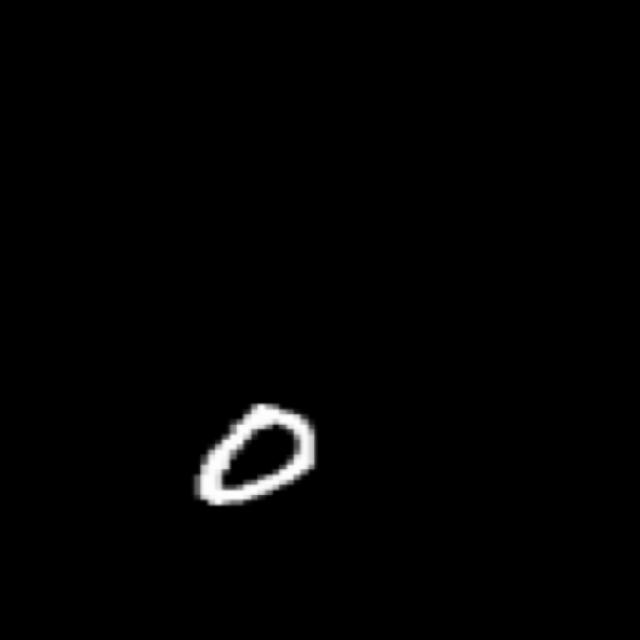zero -0-: (178, 388, 332, 518)
